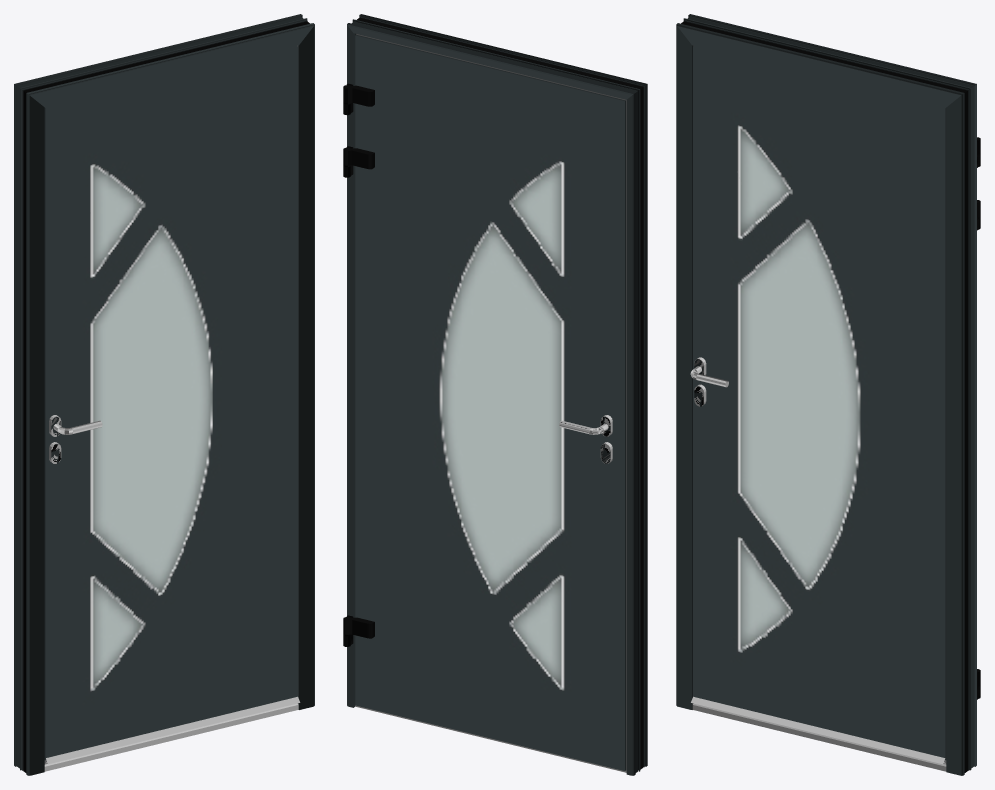
The picture shows the model from 3 angles, left to right: view 1: azimuth 30°, elevation 25°; view 2: azimuth 150°, elevation 25°; view 3: azimuth 330°, elevation 25°; orthographic projection.
Visible parts, largest first — view 1: ouvrant, 85; view 2: ouvrant, 85; view 3: ouvrant, 85.
Part boxes in pixels (bbox=[...]): ouvrant: bbox=[44, 46, 300, 764]; 85: bbox=[14, 14, 314, 775]; ouvrant: bbox=[343, 34, 626, 770]; 85: bbox=[343, 14, 647, 775]; ouvrant: bbox=[691, 46, 980, 764]; 85: bbox=[676, 14, 980, 775].
Size of the model in its own units: 96 by 218 by 22.64.
1 material, 1 textured.
